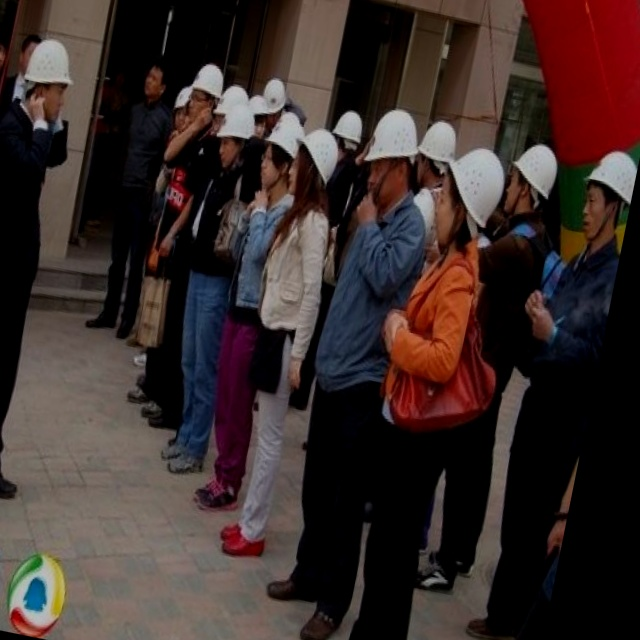Con_Casco: (16, 36, 78, 119)
Sin_Chaleco: (312, 191, 428, 396), (0, 97, 72, 307), (250, 200, 337, 346)
